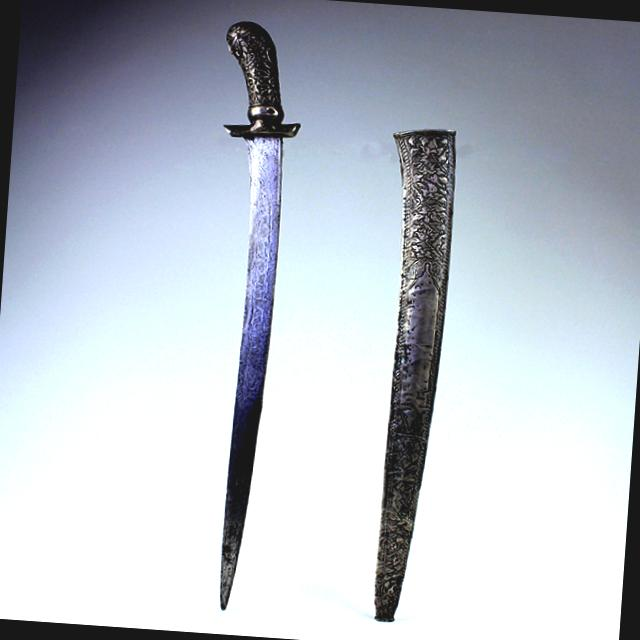short sword: (170, 11, 321, 622)
